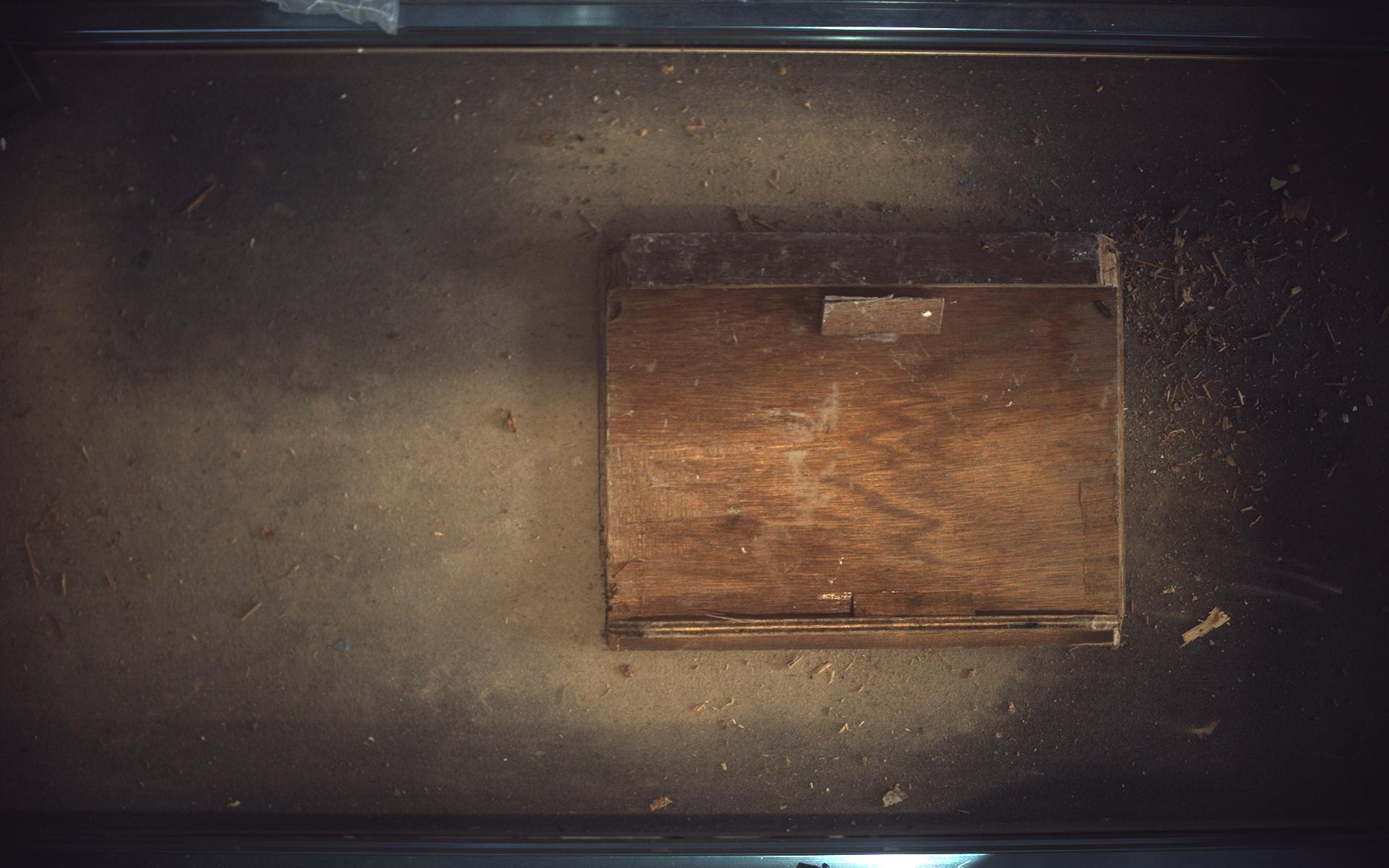wood: (602, 231, 1127, 649)
